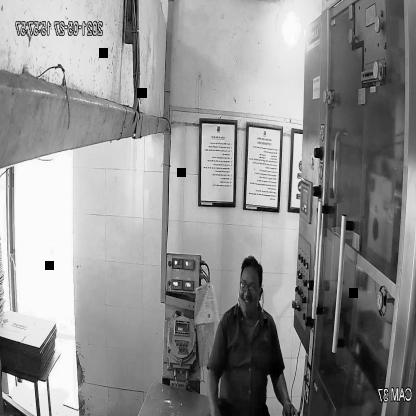goggles: (237, 274, 266, 299)
